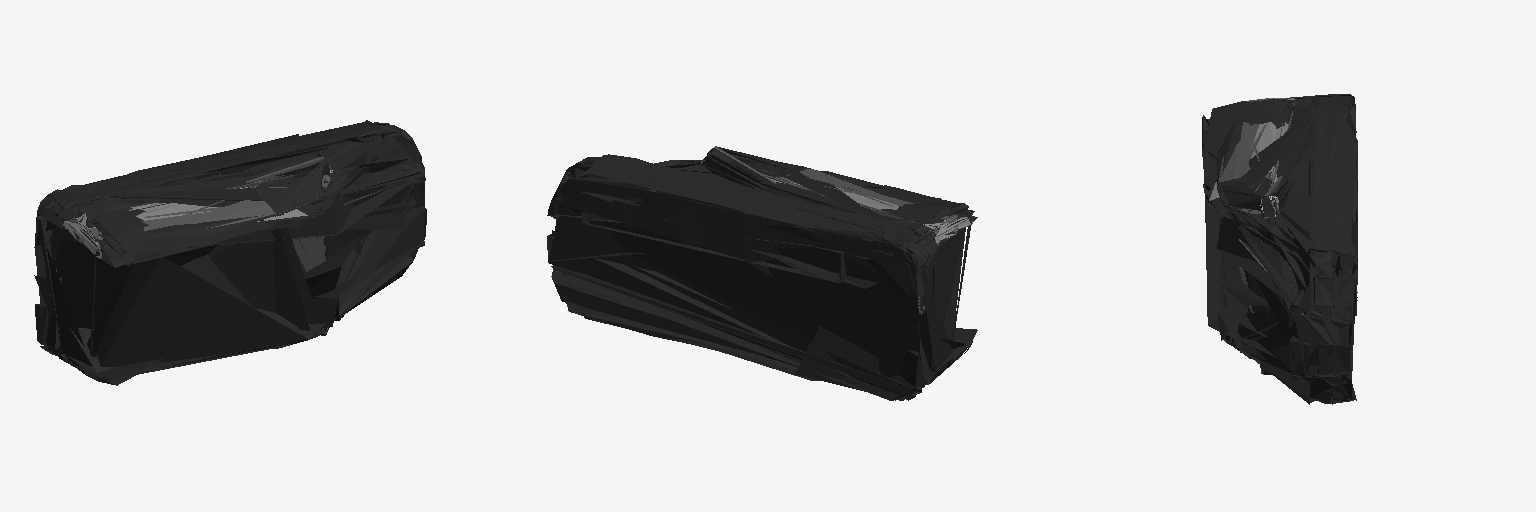
3 views of the same model, side by side, from view 1: azimuth 30°, elevation 25°; view 2: azimuth 150°, elevation 25°; view 3: azimuth 270°, elevation 25° (orthographic).
Parts seen in each view (by area): view 1: Object, Box07, Box10, 3___Default; view 2: Object, Box07, Box10, 3___Default; view 3: Object, Box07, Box10, 3___Default.
Boxes of the visible parts, x1=… form: Object: x1=34, y1=120, x2=426, y2=385; Box07: x1=35, y1=120, x2=425, y2=278; Box10: x1=60, y1=156, x2=379, y2=327; 3___Default: x1=55, y1=170, x2=332, y2=332; Object: x1=547, y1=146, x2=977, y2=400; Box07: x1=547, y1=152, x2=977, y2=312; Box10: x1=701, y1=146, x2=969, y2=313; 3___Default: x1=771, y1=179, x2=972, y2=314; Object: x1=1202, y1=94, x2=1357, y2=404; Box07: x1=1202, y1=94, x2=1357, y2=373; Box10: x1=1218, y1=98, x2=1303, y2=373; 3___Default: x1=1209, y1=98, x2=1294, y2=372.
Size of the model in its own units: 4.25 by 1.93 by 1.52.
Materials: 7 (1 with a texture image).